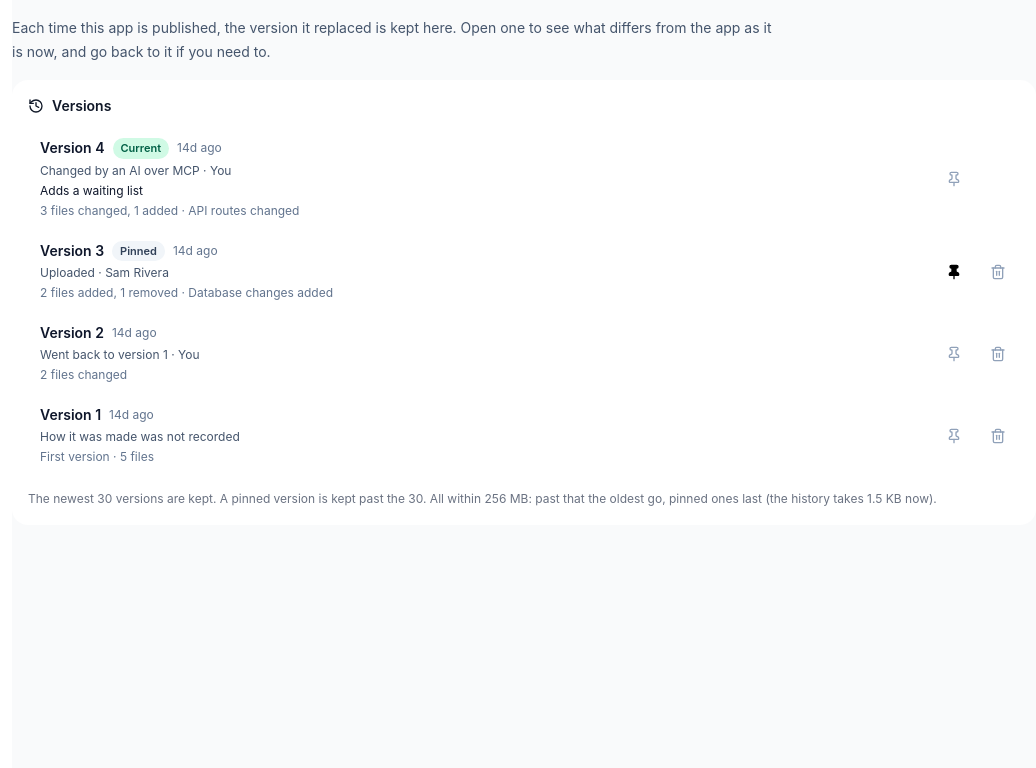
Scenario: one version › opens at its own address and shows what differs from the app now, file by file
Click the 3rd link.
click(120, 353)  # box 40,324 -> 200,382
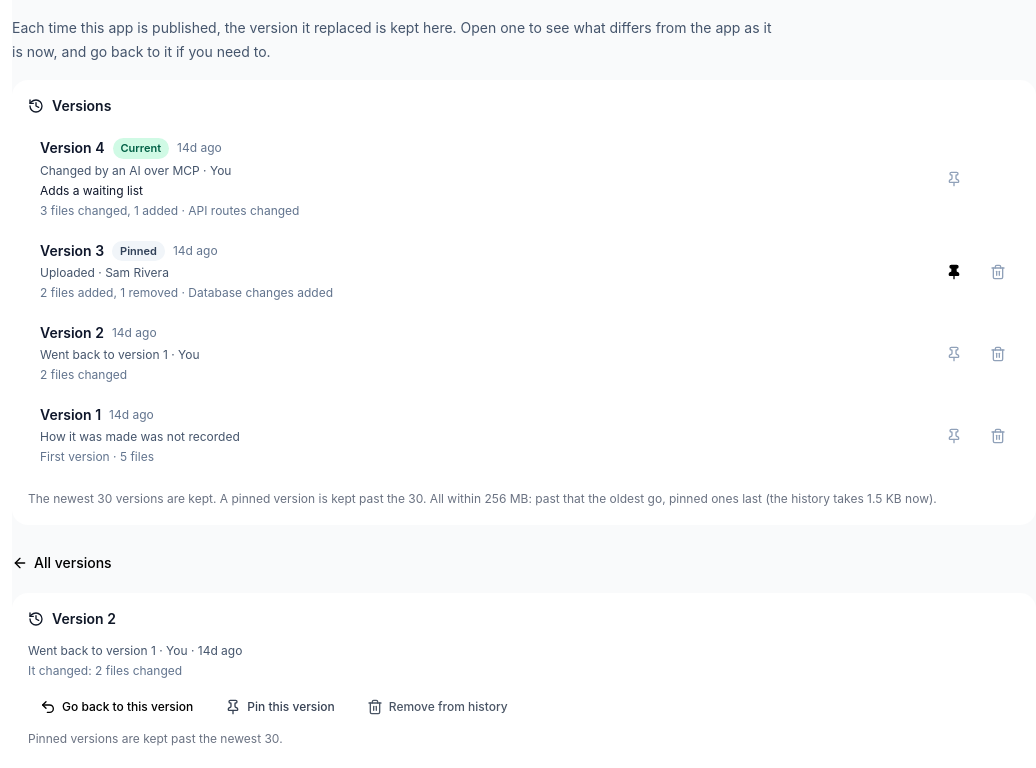
Expected: the text "Pinned versions are kept past the newest 30." is shown, 28,731 -> 283,746
